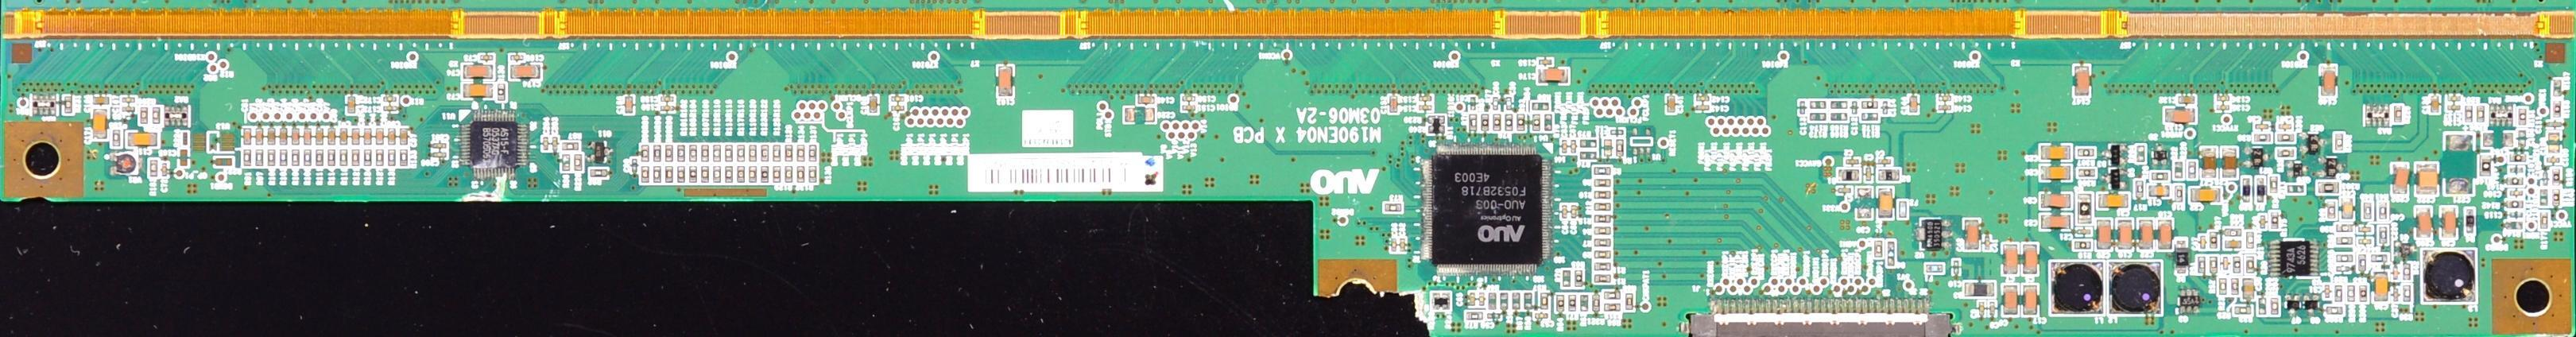Capacitor: (2415, 161, 2438, 196), (2415, 206, 2433, 239), (2163, 107, 2198, 124), (2392, 162, 2409, 197), (2321, 64, 2338, 97), (2222, 147, 2237, 180), (2442, 206, 2458, 238), (2074, 66, 2090, 98), (462, 83, 494, 99), (2041, 193, 2070, 208), (2202, 148, 2217, 180), (2118, 219, 2132, 250), (2097, 219, 2111, 250), (2373, 271, 2389, 302), (463, 64, 494, 79), (1125, 107, 1156, 122), (2098, 194, 2128, 209), (2139, 219, 2154, 249), (2002, 245, 2017, 274), (1965, 281, 1995, 296), (2023, 285, 2037, 315), (510, 64, 540, 79), (126, 133, 159, 147), (2042, 145, 2070, 160), (998, 66, 1013, 97), (93, 108, 107, 139), (2024, 244, 2037, 274), (1537, 69, 1568, 83), (2041, 165, 2070, 180), (2191, 188, 2220, 202), (1879, 188, 1893, 218), (2040, 215, 2070, 229), (2158, 219, 2172, 249), (1966, 220, 1978, 250), (2004, 285, 2017, 315), (2341, 198, 2353, 220), (2148, 186, 2170, 197), (2242, 279, 2256, 300), (2548, 133, 2560, 153), (1137, 95, 1156, 105), (2431, 95, 2440, 114), (327, 127, 336, 146), (1604, 139, 1613, 159), (1873, 240, 1883, 259), (624, 96, 633, 114), (347, 97, 356, 114), (400, 127, 409, 145), (303, 127, 312, 145), (1908, 95, 1918, 114), (387, 127, 397, 146), (376, 127, 384, 146), (2225, 240, 2241, 250), (2178, 95, 2196, 104), (1667, 95, 1675, 114), (279, 127, 287, 145), (339, 127, 348, 145), (352, 127, 359, 145), (316, 127, 323, 145), (243, 128, 251, 146), (92, 95, 109, 104), (1389, 96, 1397, 113), (869, 96, 877, 114), (268, 128, 277, 145), (256, 128, 264, 145), (290, 128, 300, 145), (1989, 300, 1996, 316), (660, 104, 675, 112), (432, 151, 447, 159), (161, 162, 169, 177), (2215, 103, 2230, 110), (2447, 103, 2462, 111), (1938, 104, 1952, 112), (364, 128, 372, 145), (1877, 158, 1891, 165), (1865, 168, 1873, 181), (510, 53, 525, 61), (890, 95, 905, 102), (1182, 95, 1196, 102), (660, 95, 675, 102), (383, 95, 397, 103), (1696, 104, 1710, 110), (1851, 100, 1857, 114), (1418, 105, 1432, 111), (1799, 100, 1805, 115), (1181, 104, 1195, 110), (383, 105, 398, 111), (122, 106, 136, 112), (543, 137, 548, 151), (552, 137, 558, 151), (1571, 140, 1577, 154), (1562, 140, 1568, 154), (1846, 159, 1860, 165), (2509, 189, 2524, 196), (1562, 204, 1568, 219), (1571, 204, 1577, 219), (2260, 215, 2266, 230), (2077, 229, 2091, 235), (1392, 238, 1397, 253), (2324, 284, 2331, 299), (2393, 288, 2400, 302), (1479, 292, 1485, 307), (480, 54, 494, 60), (1538, 59, 1552, 65), (2447, 95, 2462, 103), (1938, 95, 1952, 103), (1420, 95, 1432, 102), (2216, 95, 2229, 103), (1882, 101, 1889, 114), (891, 105, 904, 111), (2256, 122, 2269, 129), (2278, 123, 2291, 130), (2547, 157, 2560, 163), (1838, 188, 1851, 194), (2200, 235, 2206, 249), (1399, 238, 1405, 252), (2392, 266, 2399, 280), (1535, 312, 1548, 319), (1696, 95, 1710, 101), (432, 142, 447, 148), (2357, 227, 2373, 232), (2358, 239, 2372, 246), (1979, 301, 1985, 316), (1985, 236, 1990, 250), (1470, 292, 1476, 306), (122, 96, 135, 103)
IC: (1429, 160, 1533, 269), (467, 114, 516, 166), (2274, 236, 2317, 282)
Resistor: (2135, 144, 2147, 163), (2318, 182, 2339, 193), (64, 95, 73, 114), (1427, 125, 1447, 134), (796, 145, 806, 164), (314, 149, 323, 168), (303, 149, 312, 167), (2245, 231, 2255, 251), (2209, 256, 2218, 276), (1562, 269, 1572, 289), (1512, 292, 1521, 310), (1861, 100, 1877, 111), (1830, 99, 1848, 109), (2464, 105, 2473, 123), (1861, 111, 1879, 122), (1427, 114, 1446, 125), (1504, 114, 1513, 131), (2254, 134, 2272, 142), (2335, 134, 2344, 151), (2077, 149, 2094, 157), (677, 145, 686, 162), (653, 144, 661, 163), (375, 149, 385, 168), (590, 168, 608, 177), (688, 165, 698, 184), (641, 165, 650, 184), (664, 166, 673, 184), (2151, 172, 2168, 181), (2269, 176, 2278, 194), (1593, 214, 1611, 223), (2270, 212, 2280, 230), (1593, 225, 1612, 235), (2224, 227, 2243, 236), (2209, 232, 2218, 250), (2358, 254, 2367, 273), (2246, 256, 2255, 275), (2197, 257, 2206, 275), (2218, 278, 2228, 296), (2346, 285, 2356, 302), (1523, 293, 1532, 310), (1625, 293, 1634, 310), (1604, 303, 1621, 312), (496, 83, 506, 101), (2553, 99, 2561, 118), (2393, 105, 2403, 122), (139, 106, 149, 126), (1532, 114, 1540, 132), (112, 130, 121, 146), (399, 149, 409, 166), (327, 149, 336, 166), (2187, 162, 2196, 180), (712, 166, 721, 183), (653, 166, 662, 185), (2174, 186, 2183, 202), (2507, 200, 2524, 210), (2328, 201, 2336, 220), (2506, 222, 2524, 230), (2074, 241, 2091, 250), (1594, 250, 1612, 259), (2370, 254, 2388, 262), (1594, 261, 1613, 269), (1500, 293, 1508, 312), (2553, 79, 2562, 97), (1809, 100, 1826, 108), (1532, 102, 1549, 110), (153, 107, 161, 125), (1830, 111, 1848, 121), (2518, 108, 2527, 126), (1481, 114, 1489, 132), (1493, 114, 1501, 131), (1517, 114, 1525, 132), (2277, 134, 2295, 142), (1616, 139, 1625, 158), (749, 145, 757, 162), (665, 145, 673, 162), (761, 145, 769, 162), (641, 144, 649, 162), (2277, 149, 2295, 158), (712, 145, 720, 163), (701, 145, 709, 162), (689, 145, 697, 162), (726, 145, 734, 163), (255, 149, 263, 167), (267, 149, 276, 167), (280, 149, 288, 167), (243, 150, 252, 167), (339, 149, 348, 168), (1594, 166, 1612, 175), (2078, 169, 2096, 178), (676, 165, 685, 184), (761, 166, 769, 184), (701, 165, 710, 184), (725, 166, 733, 184), (797, 166, 805, 184), (737, 166, 745, 184), (2551, 189, 2560, 207), (1593, 203, 1612, 210), (1384, 203, 1402, 211), (2364, 203, 2373, 220), (2540, 211, 2548, 230), (2337, 224, 2353, 232), (2233, 256, 2241, 274), (1594, 274, 1612, 283), (1575, 270, 1582, 288), (1488, 292, 1497, 310), (1556, 295, 1564, 312), (1592, 295, 1601, 312), (2271, 298, 2279, 316), (2326, 306, 2344, 315), (2477, 105, 2485, 122), (1580, 139, 1597, 148), (773, 145, 780, 161), (737, 145, 745, 161), (1580, 151, 1597, 160), (352, 149, 360, 166), (388, 149, 396, 166), (574, 154, 582, 171), (562, 154, 570, 172), (149, 159, 158, 176), (2175, 161, 2183, 178), (749, 166, 757, 183), (808, 166, 817, 183), (2552, 169, 2560, 186), (2508, 178, 2524, 186), (2136, 181, 2144, 198), (1594, 190, 1611, 199), (2379, 227, 2388, 244), (1594, 238, 1611, 247), (2336, 255, 2353, 262), (2402, 264, 2411, 281), (2230, 278, 2239, 295), (2334, 285, 2343, 302), (2403, 285, 2411, 303), (2359, 285, 2367, 302), (1603, 291, 1621, 300), (2234, 306, 2251, 315), (1466, 312, 1484, 321), (364, 148, 372, 167), (1810, 112, 1826, 120), (1468, 114, 1478, 130), (784, 145, 792, 162), (2508, 154, 2526, 161), (2378, 203, 2386, 220), (1540, 292, 1548, 310), (1568, 294, 1576, 312), (561, 142, 578, 149), (809, 145, 816, 161), (292, 149, 299, 166), (773, 166, 781, 182), (785, 165, 792, 183), (1594, 179, 1611, 186), (2336, 237, 2353, 244), (2336, 265, 2352, 272), (1486, 312, 1501, 321), (1506, 97, 1513, 110), (1493, 98, 1499, 110)
